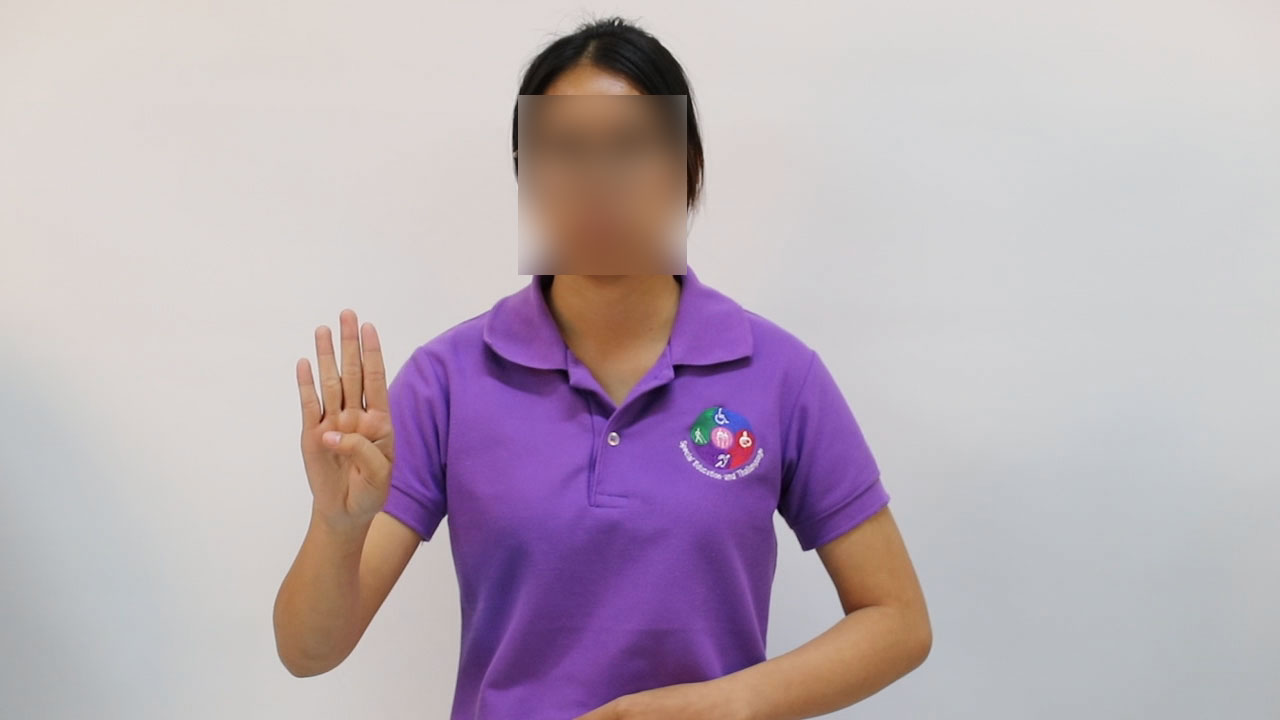bor: (275, 295, 410, 551)
